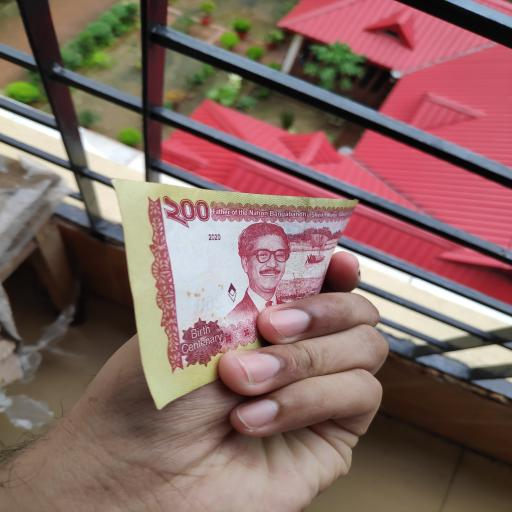200taka: (119, 183, 360, 410)
